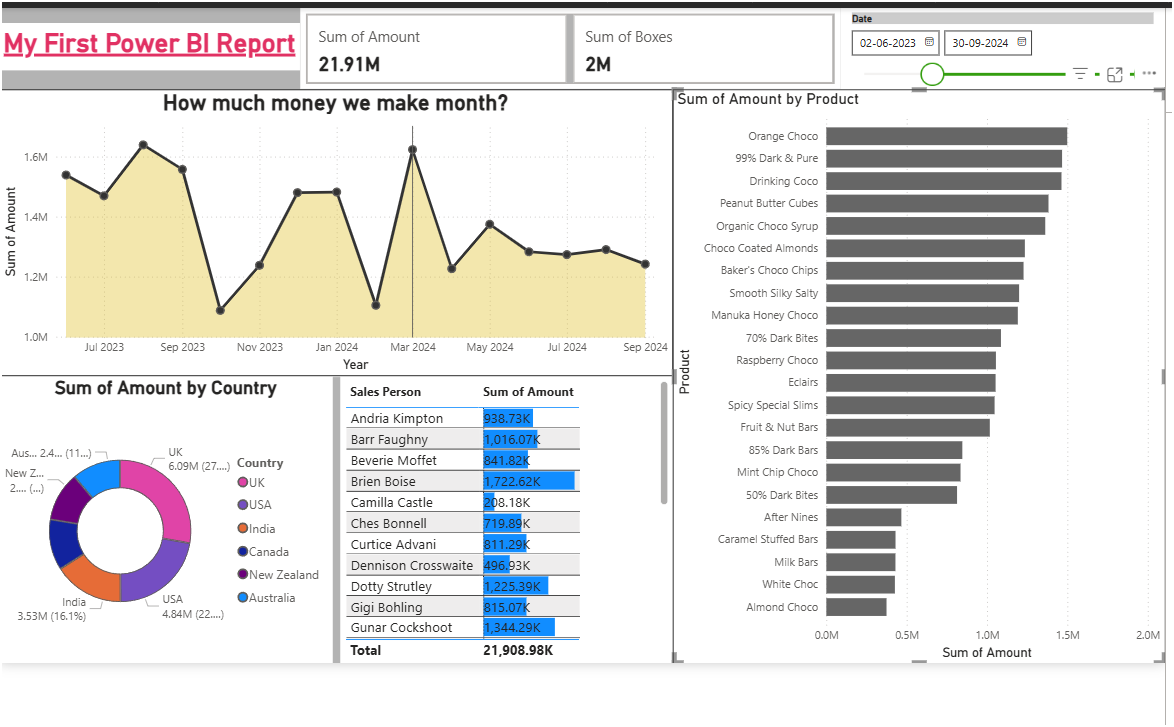

This screenshot's page, from the dashboard's own definition file:
{"tool":"powerbi","page":{"name":"Page 1","canvas":[1280,720],"ordinal":0},"visuals":[{"type":"lineChart","title":"How much money we make month?","fields":{"Category":["data.Date.Variation.Date Hierarchy.Year","data.Date.Variation.Date Hierarchy.Quarter","data.Date.Variation.Date Hierarchy.Month","data.Date.Variation.Date Hierarchy.Day"],"Y":["Sum(data.Amount)"]},"box":[0,89.2,739.6,315.6],"z":0},{"type":"donutChart","fields":{"Category":["data.Country"],"Y":["Sum(data.Amount)"]},"box":[0,404.8,366.4,315.6],"z":1000},{"type":"tableEx","fields":{"Values":["data.Sales Person","Sum(data.Amount)"]},"box":[374.6,404.8,365,315.6],"z":2000},{"type":"clusteredBarChart","fields":{"Category":["data.Product"],"Y":["Sum(data.Amount)"]},"box":[739.6,89.2,540.7,631.2],"z":3000},{"type":"cardVisual","fields":{"Data":["Sum(data.Amount)","Sum(data.Boxes)"]},"box":[330.7,0,592.8,89.2],"z":4000},{"type":"slicer","fields":{"Values":["data.Date"]},"box":[923.5,0,356.8,89.2],"z":5000},{"type":"textbox","box":[0,16.5,330.7,52.1],"z":6001}]}

Visuals, with their boxes on the page's 1280x720 design canvas (x1, y1, x2, y2). These are canvas units, not pixel positions in the 1174x727 screenshot, which may show the page scaled, cropped or inside an application window:
"How much money we make month?" lineChart: 0, 89, 740, 405
donutChart - data.Country x Sum(data.Amount): 0, 405, 366, 720
tableEx - data.Sales Person x Sum(data.Amount): 375, 405, 740, 720
clusteredBarChart - data.Product x Sum(data.Amount): 740, 89, 1280, 720
cardVisual - Sum(data.Amount) x Sum(data.Boxes): 331, 0, 924, 89
slicer - data.Date: 924, 0, 1280, 89
textbox: 0, 16, 331, 69
